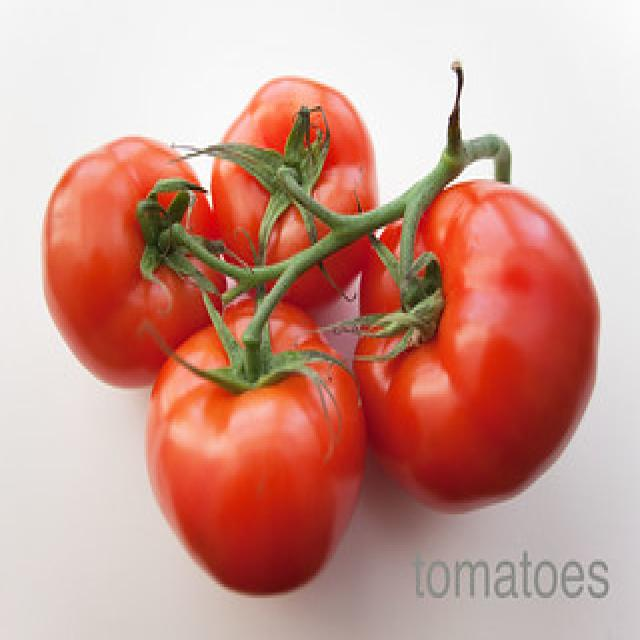Tomato: (350, 175, 604, 521), (141, 299, 369, 603), (39, 132, 228, 394), (210, 70, 381, 310)
